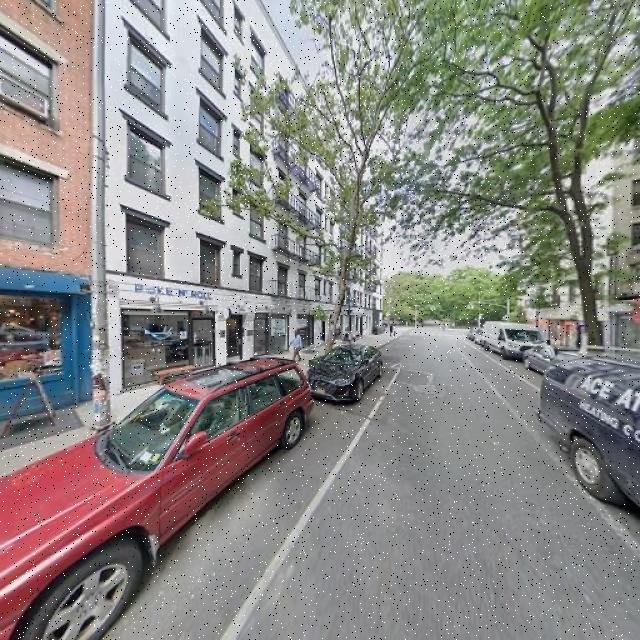Building: (95, 1, 293, 408), (1, 1, 89, 432), (295, 68, 384, 353)
